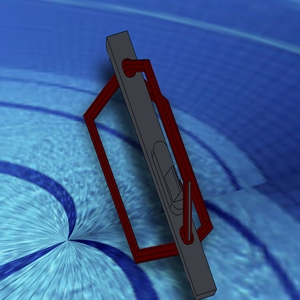submarine: (64, 4, 264, 300)
